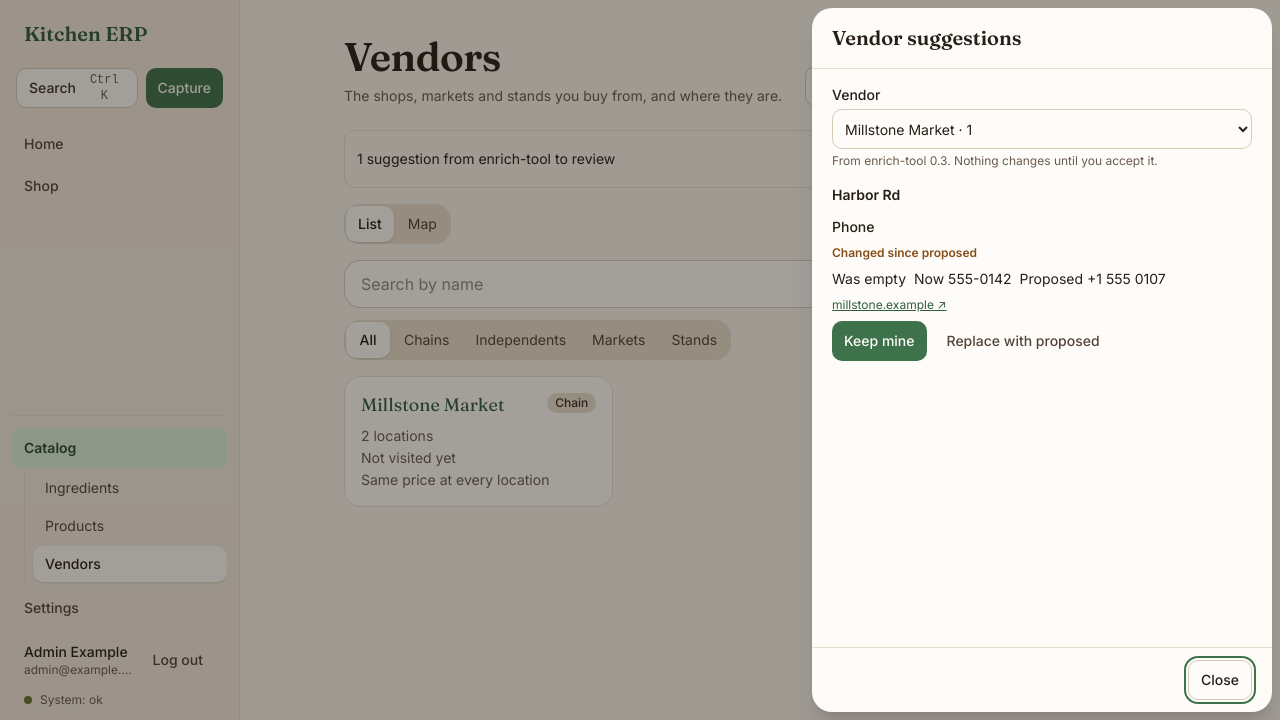
Test: vendor suggestion review › keeps mine by rejecting, counted as kept
Click the button with aria-label "Keep my phone for Harbor Rd" at {"x": 879, "y": 341}, box 832,321 -> 926,361
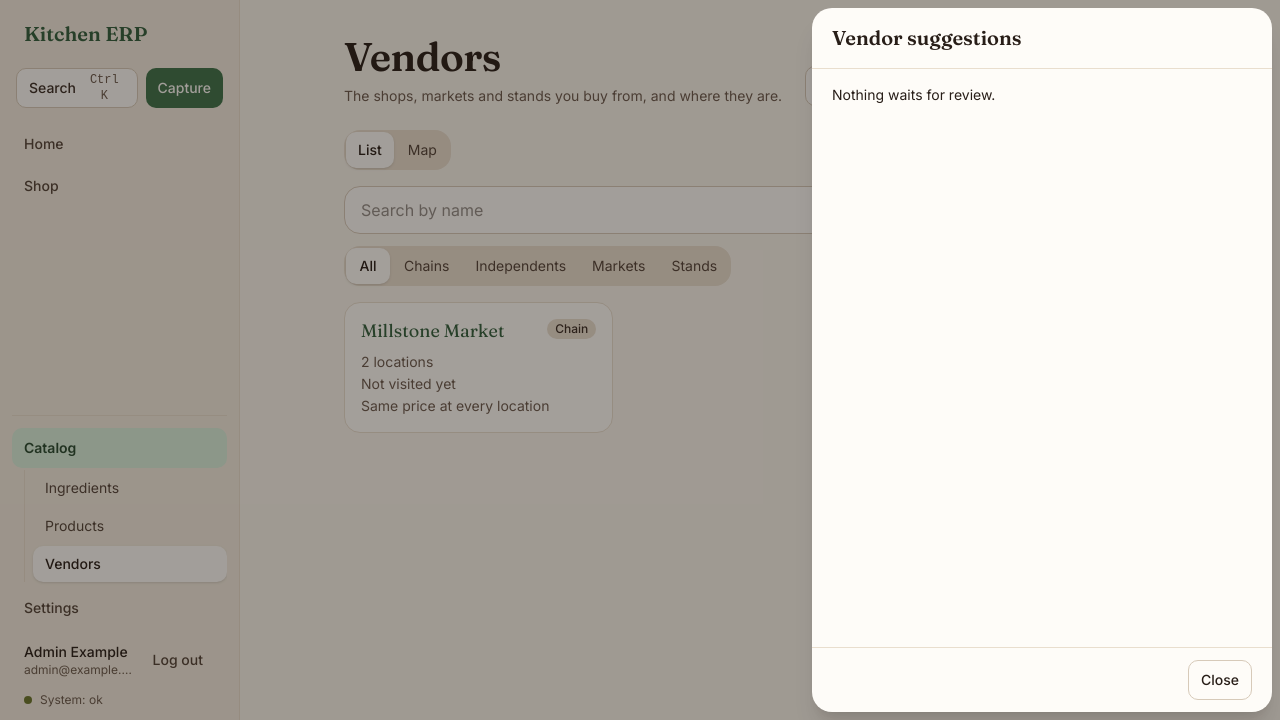
Check: the text "Nothing waits for review." is shown, box 832,86 -> 995,103
Click the button "Close" at {"x": 1220, "y": 680}, box 1188,660 -> 1252,700
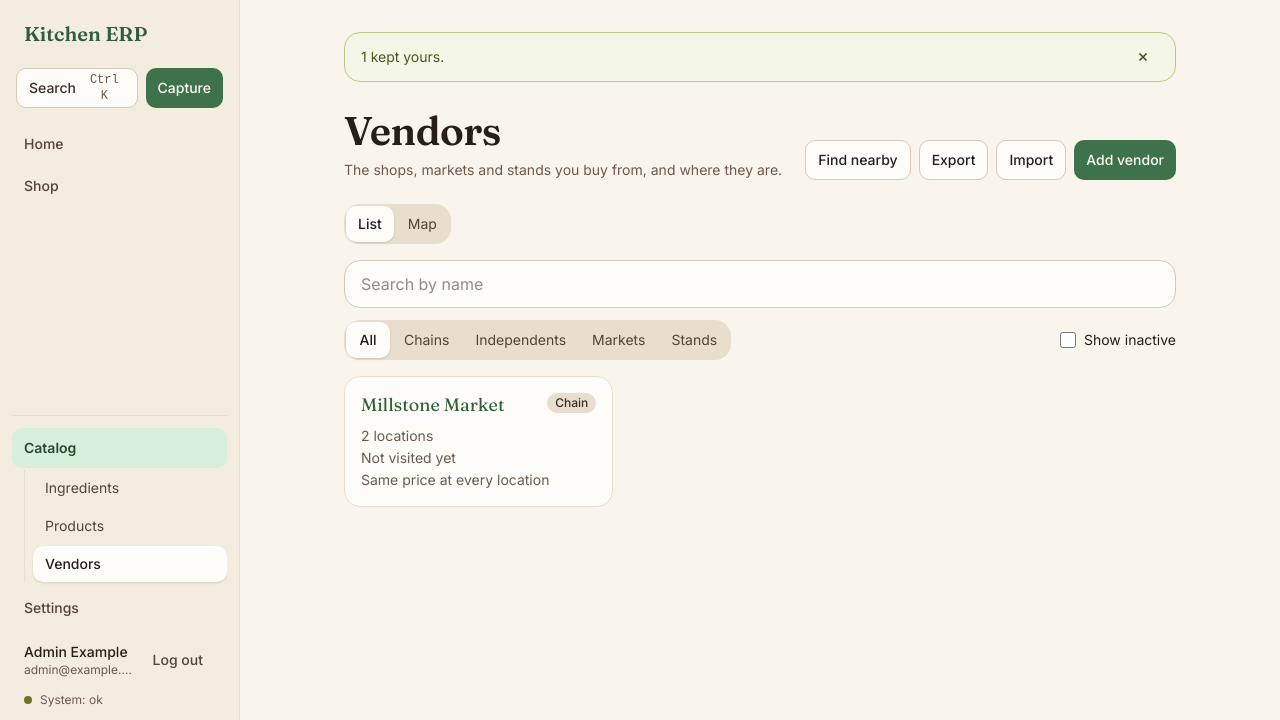
Check: the message with test id "notice" reads "1 kept yours.", box 361,48 -> 444,65
